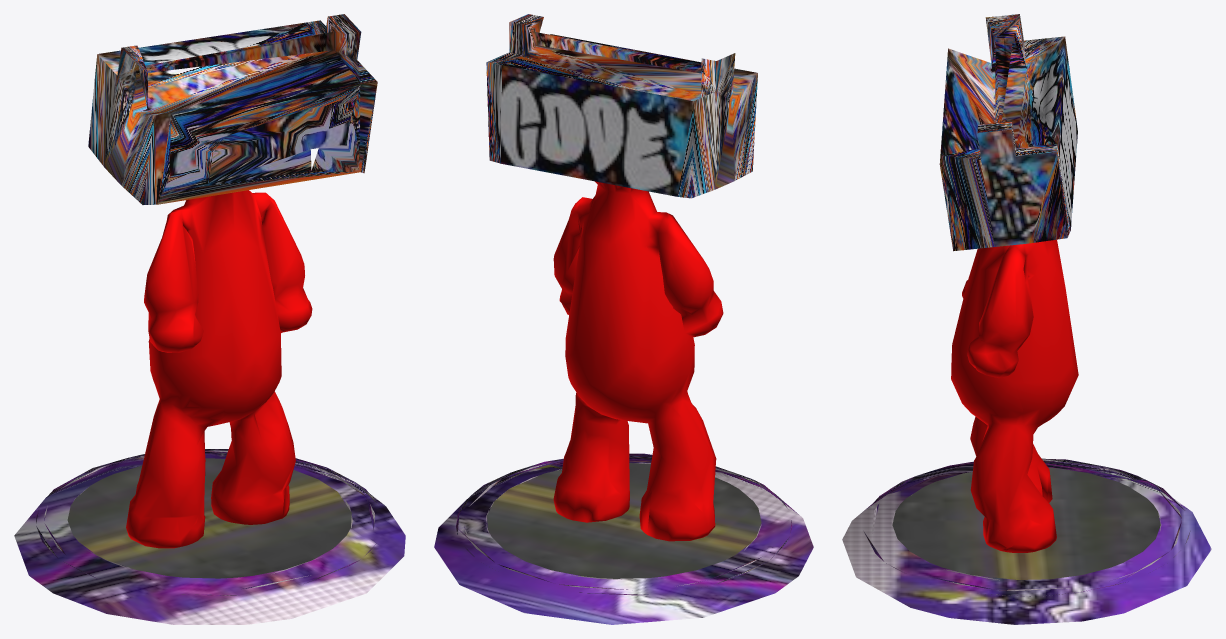
The picture shows the model from 3 angles, left to right: view 1: azimuth 30°, elevation 25°; view 2: azimuth 150°, elevation 25°; view 3: azimuth 270°, elevation 25°; orthographic projection. The views are drawn at different scales.
Size of the model in its own units: 1.44 by 2.11 by 1.44.
4 materials, 3 textured.
